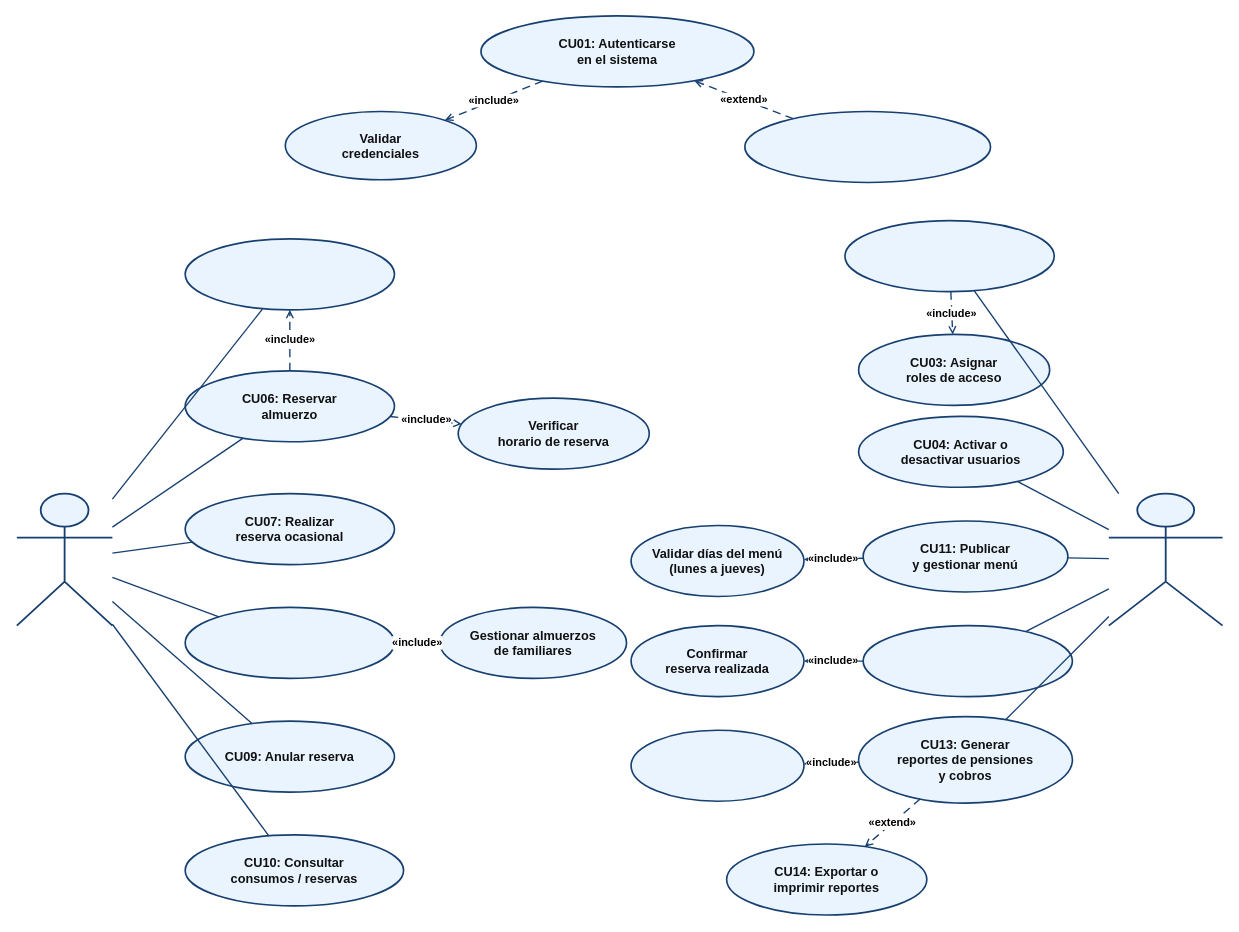
The diagram is 1239 pixels wide and 932 high, and some of its shapes have lost their labels. Each missing label, with the box of its shape:
Actualizar datos de perfil y contraseña: (744, 110, 991, 183)
Administrador: (1107, 492, 1223, 626)
CU02: Registrar usuarios: (844, 219, 1055, 292)
CU05: Consultar menú semanal: (184, 238, 395, 310)
CU08: Solicitar pensión mensual: (184, 606, 395, 679)
CU12: Registrar asistencia de almuerzos: (862, 624, 1073, 697)
Empleado: (15, 492, 113, 626)
Seleccionar rango de fechas: (630, 729, 804, 802)
